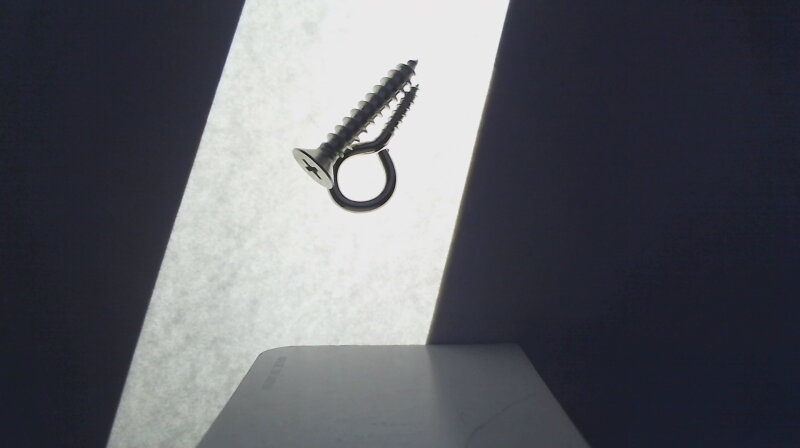O001: (326, 82, 420, 214)
S001: (290, 59, 418, 188)
